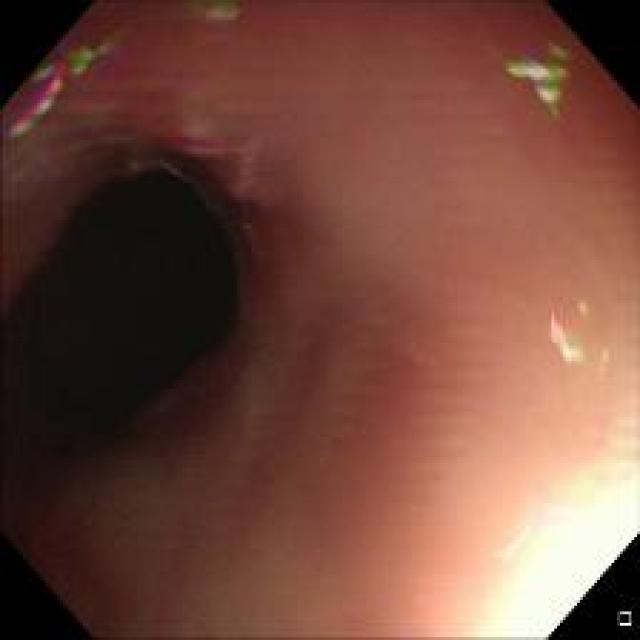color misalignment: (14, 28, 131, 132), (504, 32, 580, 121), (544, 298, 621, 371), (159, 112, 258, 164), (181, 0, 244, 21)
contrast: (6, 141, 270, 489)
saturation: (471, 482, 630, 634)
specularity: (499, 518, 531, 564)
